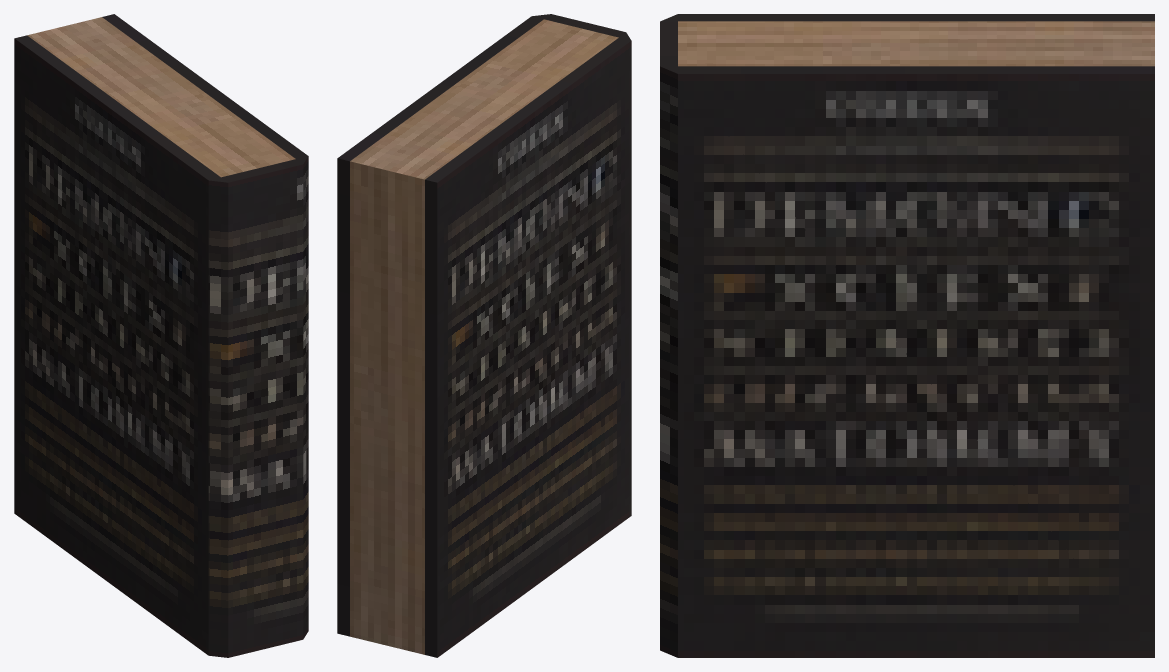
Rendered from book1.glb.
3 renders of one model, left to right at view 1: azimuth 30°, elevation 25°; view 2: azimuth 150°, elevation 25°; view 3: azimuth 270°, elevation 25°, orthographic. The views are drawn at different scales.
Visible parts, largest first — view 1: book1; view 2: book1; view 3: book1.
Boxes of the visible parts, x1,y1,x2,y2 form: book1: [14, 14, 308, 657]; book1: [337, 14, 631, 657]; book1: [660, 14, 1154, 657].
Size of the model in its own units: 0.0884 by 0.4017 by 0.3084.
1 material, 1 textured.
